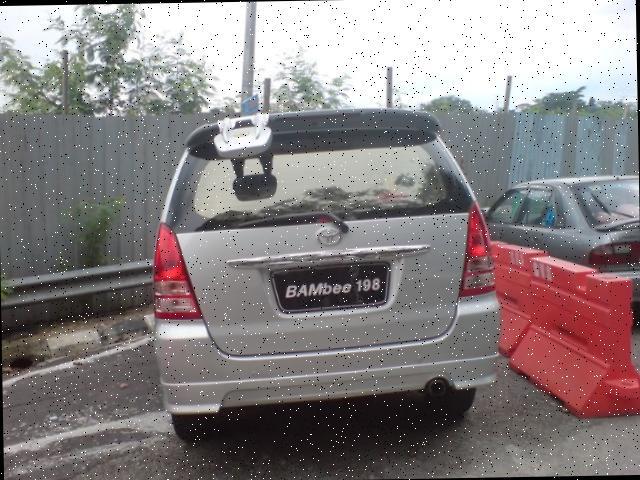License_Plate: (272, 272, 395, 315)
car: (148, 107, 507, 438)
